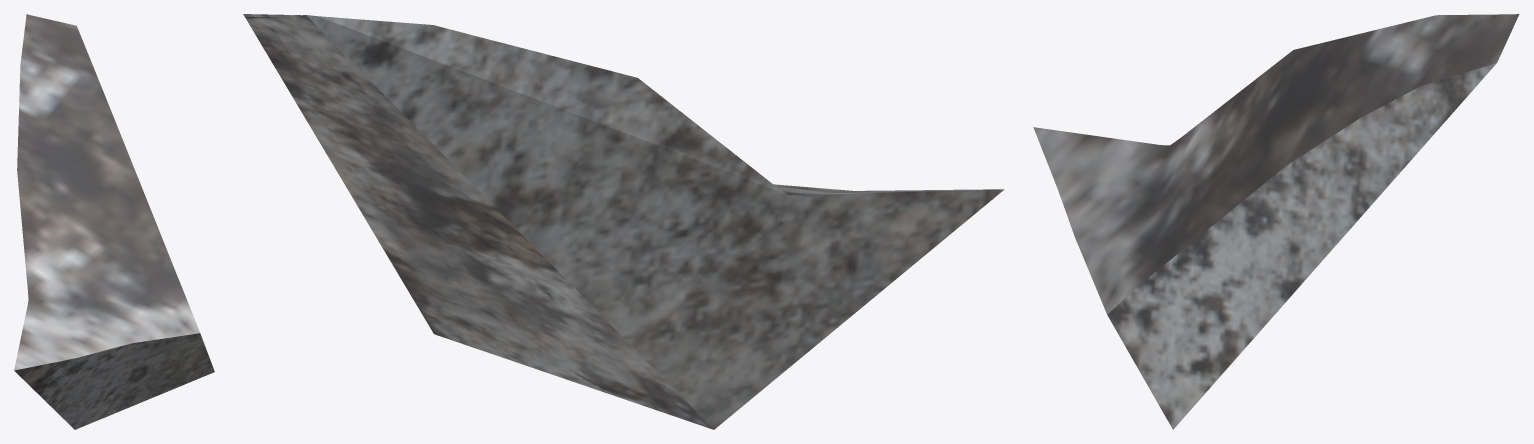
File: Asteroid_Large_001_02_009_03_004.fbx
3 renders of one model, left to right at view 1: azimuth 30°, elevation 25°; view 2: azimuth 150°, elevation 25°; view 3: azimuth 270°, elevation 25°, orthographic. The views are drawn at different scales.
Visible parts, largest first — view 1: Asteroid_Large_001_02_009_03_004; view 2: Asteroid_Large_001_02_009_03_004; view 3: Asteroid_Large_001_02_009_03_004.
Part boxes in pixels (left/top/right/bottom): Asteroid_Large_001_02_009_03_004: left=14, top=14, right=214, bottom=429; Asteroid_Large_001_02_009_03_004: left=243, top=14, right=1004, bottom=429; Asteroid_Large_001_02_009_03_004: left=1033, top=14, right=1519, bottom=429.
Bounding box in the file's own units: 4.95 × 5.57 × 6.11.
